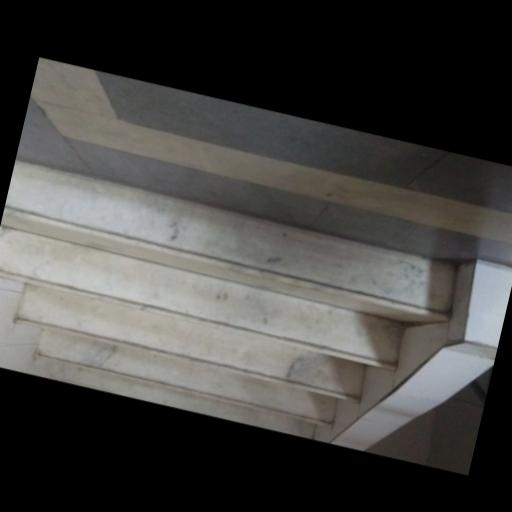stairs: (0, 161, 455, 437)
